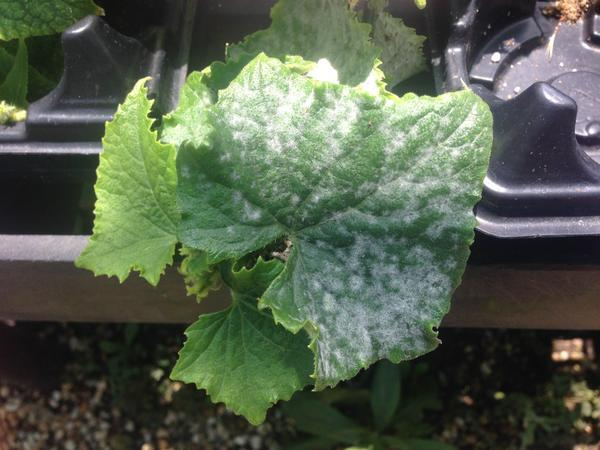Squash Powdery mildew leaf: (159, 68, 493, 398)
